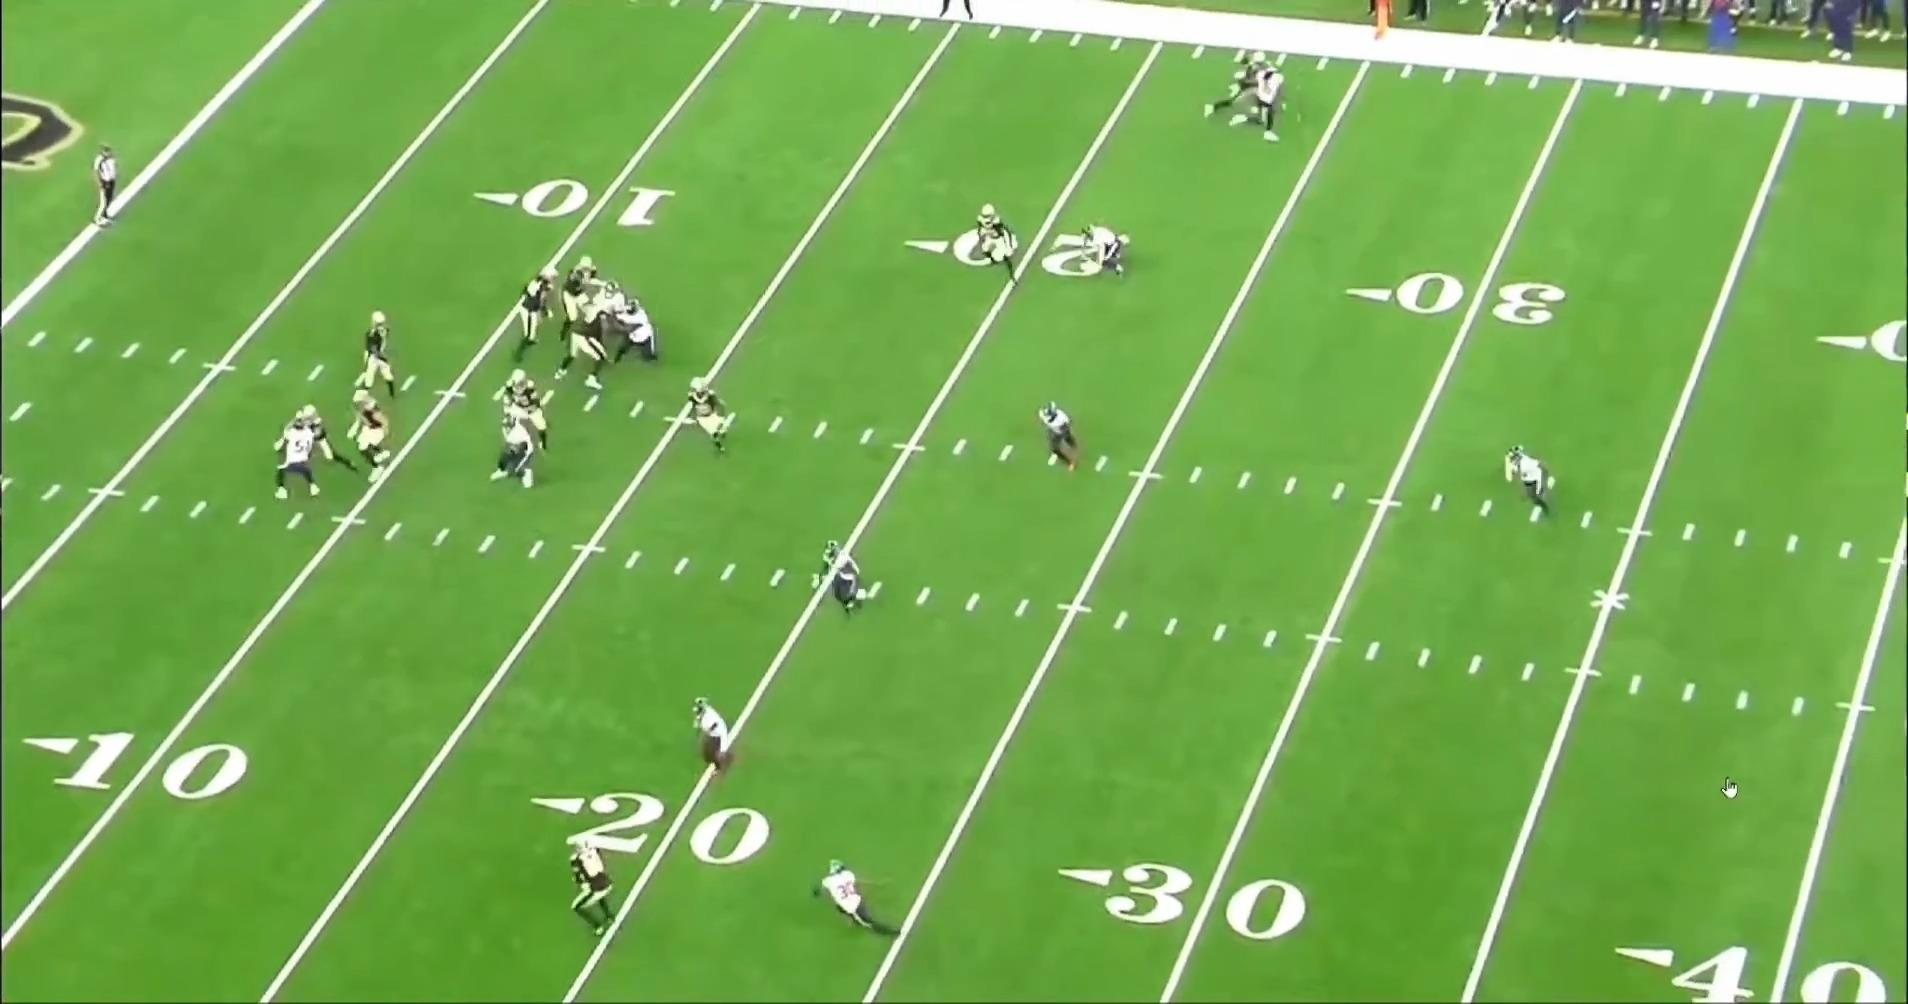player: (554, 291, 625, 393), (814, 856, 900, 938), (278, 406, 352, 489), (1204, 45, 1272, 123), (565, 840, 616, 944), (505, 261, 557, 362), (493, 368, 548, 461), (1228, 56, 1286, 143), (494, 400, 547, 494), (267, 414, 321, 505), (1507, 440, 1564, 526), (345, 389, 396, 484), (694, 693, 744, 786), (688, 371, 741, 457), (976, 201, 1028, 287), (815, 539, 866, 623), (355, 307, 400, 402), (603, 294, 662, 366), (1042, 399, 1090, 478), (1080, 224, 1132, 281), (563, 256, 602, 325), (591, 278, 628, 310)
ref: (87, 141, 122, 234), (927, 0, 980, 24)
